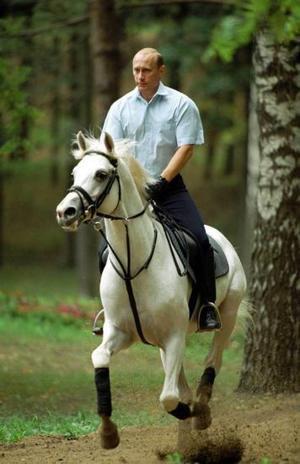person: (99, 47, 221, 333)
